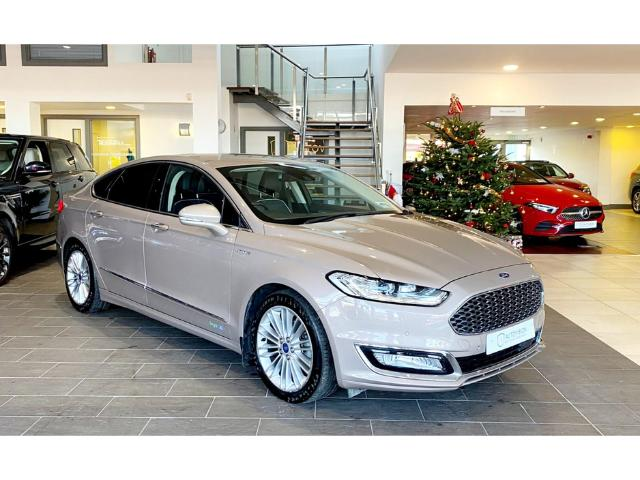ford: (56, 153, 546, 405)
